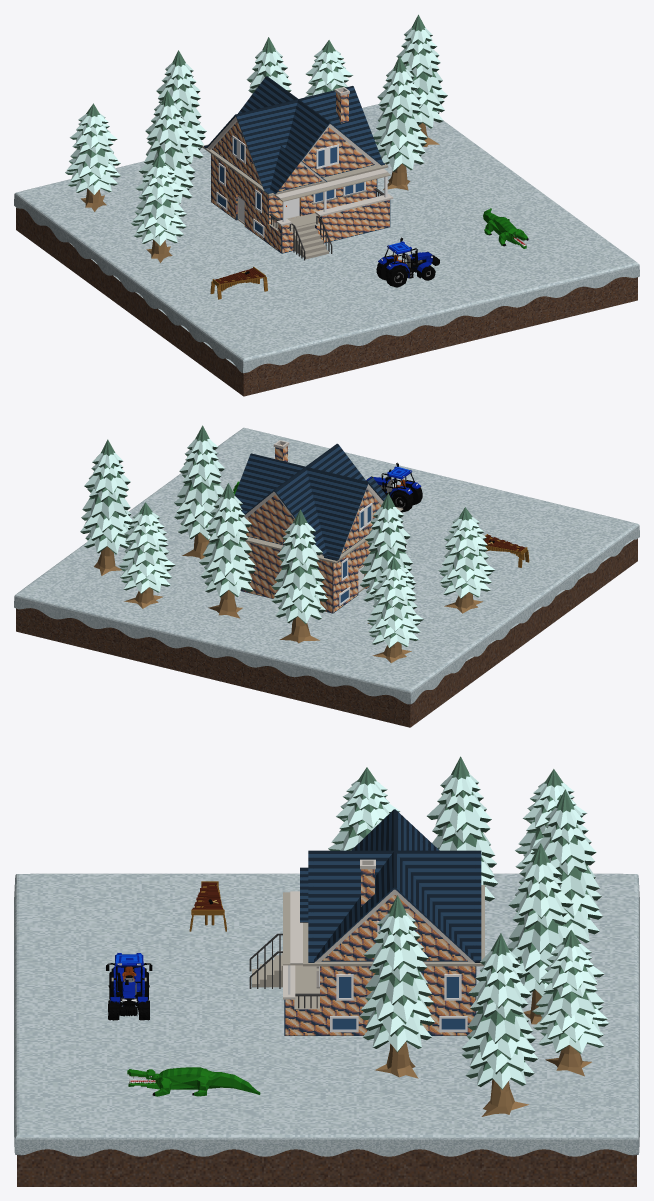
The picture shows the model from 3 angles, top to bottom: view 1: azimuth 30°, elevation 25°; view 2: azimuth 150°, elevation 25°; view 3: azimuth 270°, elevation 25°; orthographic projection. The views are drawn at different scales.
Parts seen in each view (by area): view 1: Cube.003, Cube.430, VEHICLES_TRACTOR, ANIMAL_COCODRILO, OBJRANDOM_MARIMBA; view 2: Cube.003, Cube.430, VEHICLES_TRACTOR, OBJRANDOM_MARIMBA; view 3: Cube.003, Cube.430, VEHICLES_TRACTOR, ANIMAL_COCODRILO, OBJRANDOM_MARIMBA.
Boxes of the visible parts, left/top/right/bottom form: Cube.003: left=14, top=14, right=639, bottom=396; Cube.430: left=202, top=76, right=393, bottom=260; VEHICLES_TRACTOR: left=376, top=237, right=439, bottom=287; ANIMAL_COCODRILO: left=483, top=208, right=528, bottom=248; OBJRANDOM_MARIMBA: left=210, top=266, right=267, bottom=299; Cube.003: left=14, top=425, right=639, bottom=727; Cube.430: left=235, top=440, right=405, bottom=613; VEHICLES_TRACTOR: left=366, top=462, right=422, bottom=512; OBJRANDOM_MARIMBA: left=484, top=534, right=529, bottom=567; Cube.003: left=14, top=756, right=639, bottom=1186; Cube.430: left=249, top=809, right=484, bottom=1035; VEHICLES_TRACTOR: left=106, top=953, right=152, bottom=1020; ANIMAL_COCODRILO: left=127, top=1067, right=260, bottom=1096; OBJRANDOM_MARIMBA: left=189, top=881, right=226, bottom=931.
Size of the model in its own units: 4040 by 1708 by 4040.
Materials: 34 (4 with a texture image).
